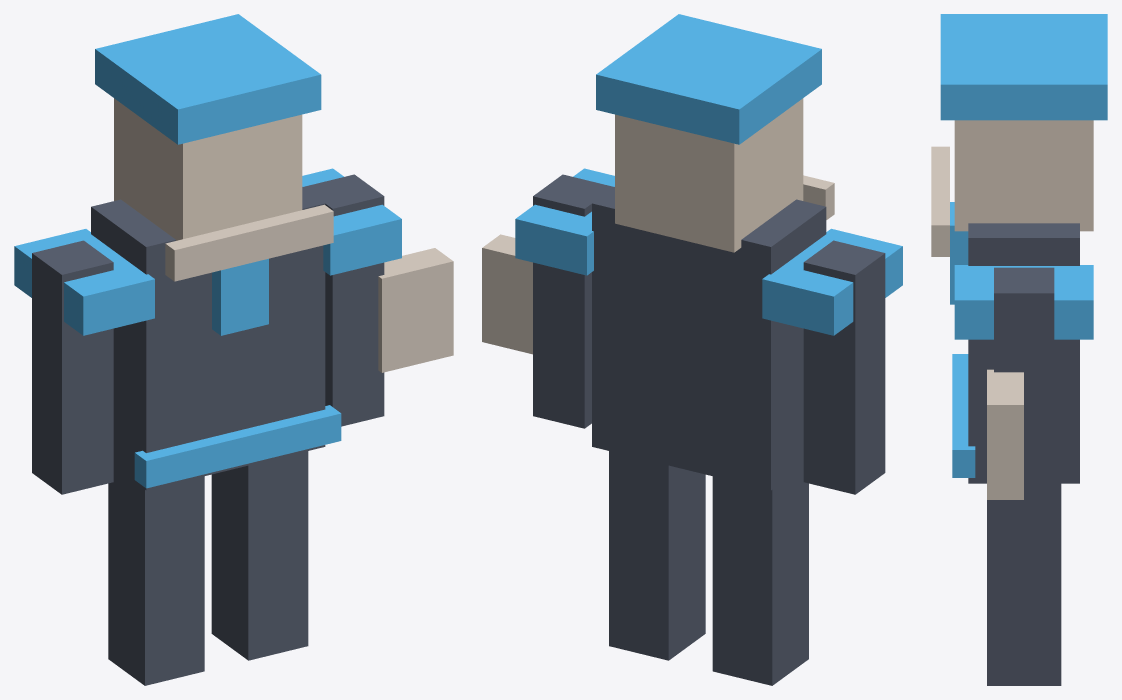
File: 05_selka_cragwarden_smith_near_integrity.glb
3 views of the same model, side by side, from view 1: azimuth 30°, elevation 25°; view 2: azimuth 150°, elevation 25°; view 3: azimuth 270°, elevation 25° (orthographic).
Parts seen in each view (by area): view 1: Selka Cragwarden, Smith near Integrity; view 2: Selka Cragwarden, Smith near Integrity; view 3: Selka Cragwarden, Smith near Integrity.
Boxes of the visible parts, x1=… form: Selka Cragwarden, Smith near Integrity: x1=14, y1=14, x2=453, y2=685; Selka Cragwarden, Smith near Integrity: x1=482, y1=14, x2=902, y2=685; Selka Cragwarden, Smith near Integrity: x1=931, y1=14, x2=1107, y2=685.
Bounding box in the file's own units: 1.06 × 1.54 × 0.4134.
